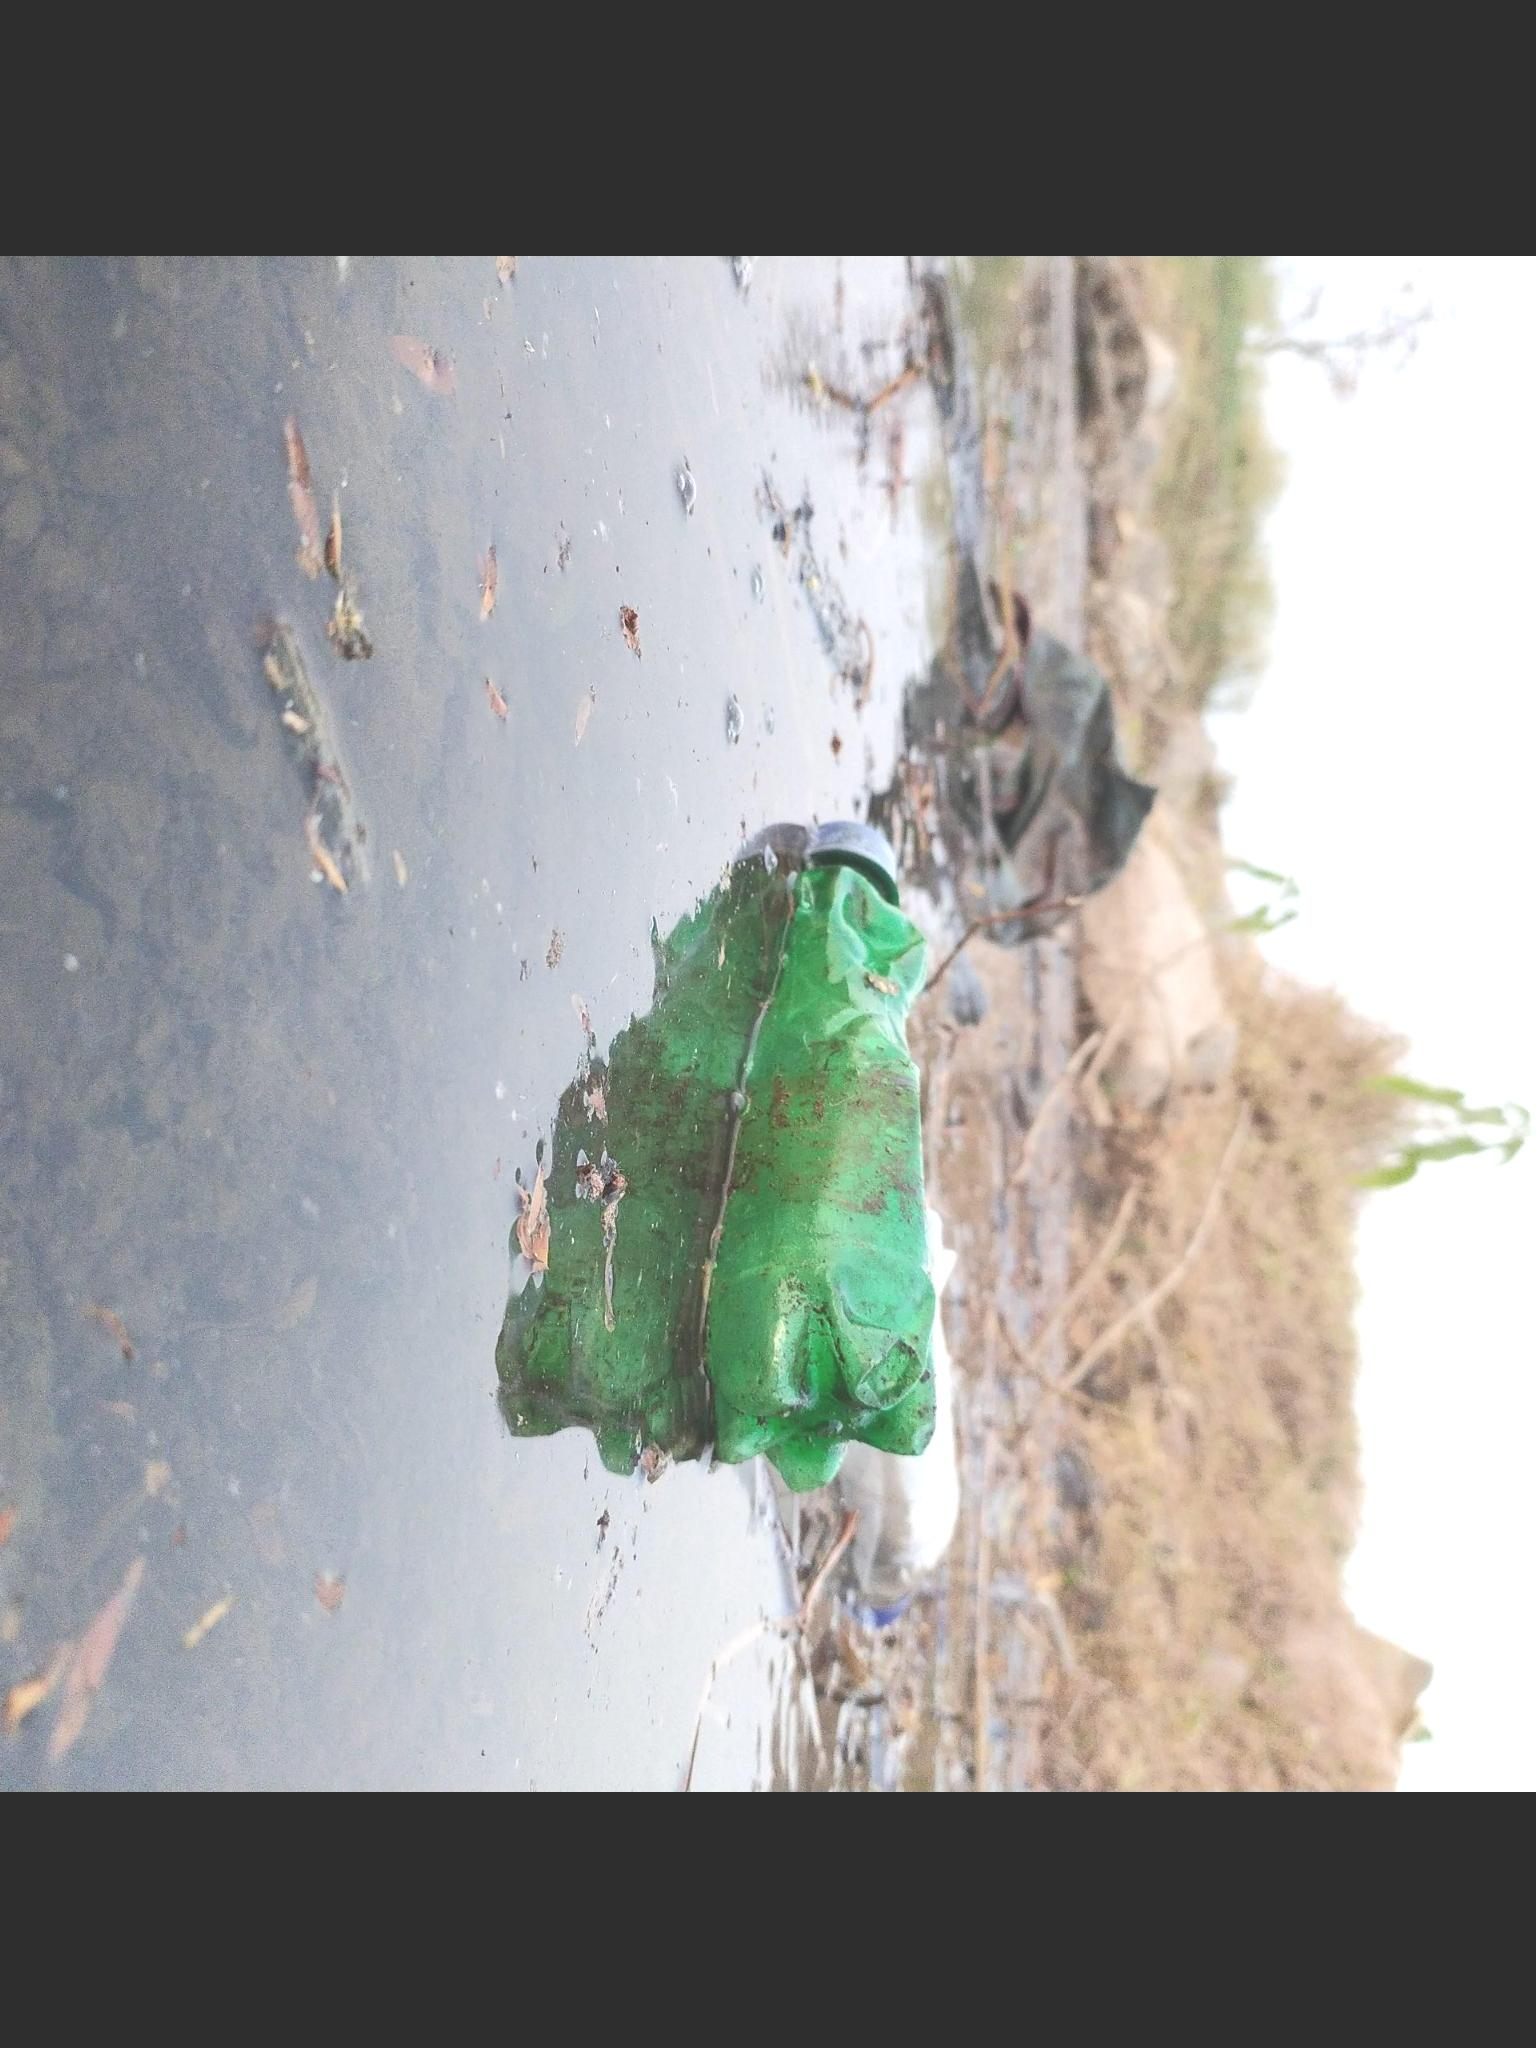bottle: (672, 796, 980, 1508)
